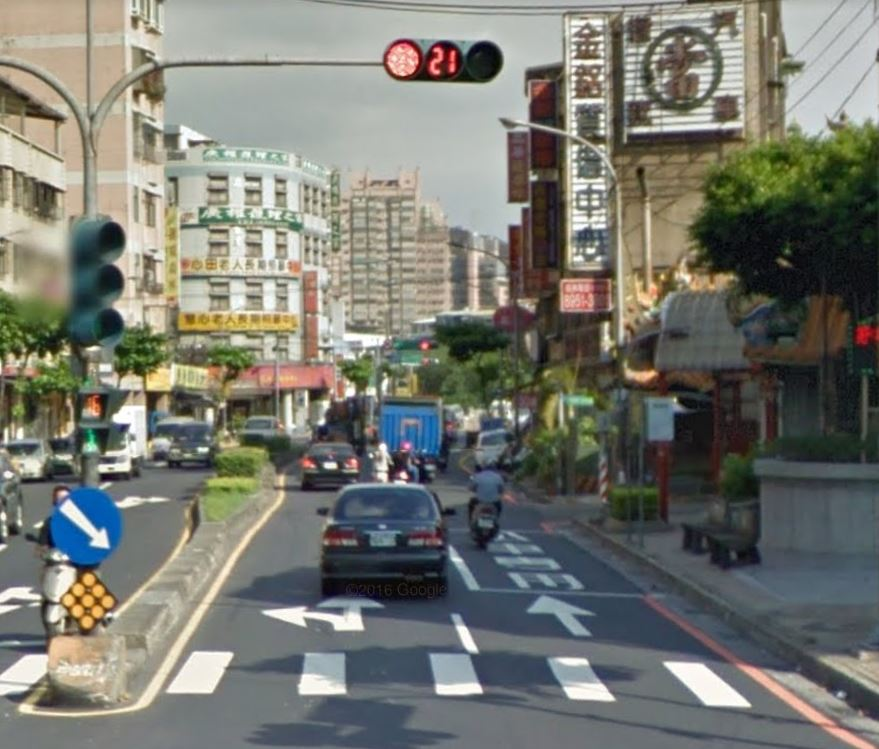Traffic_light_red: (381, 36, 504, 85)
